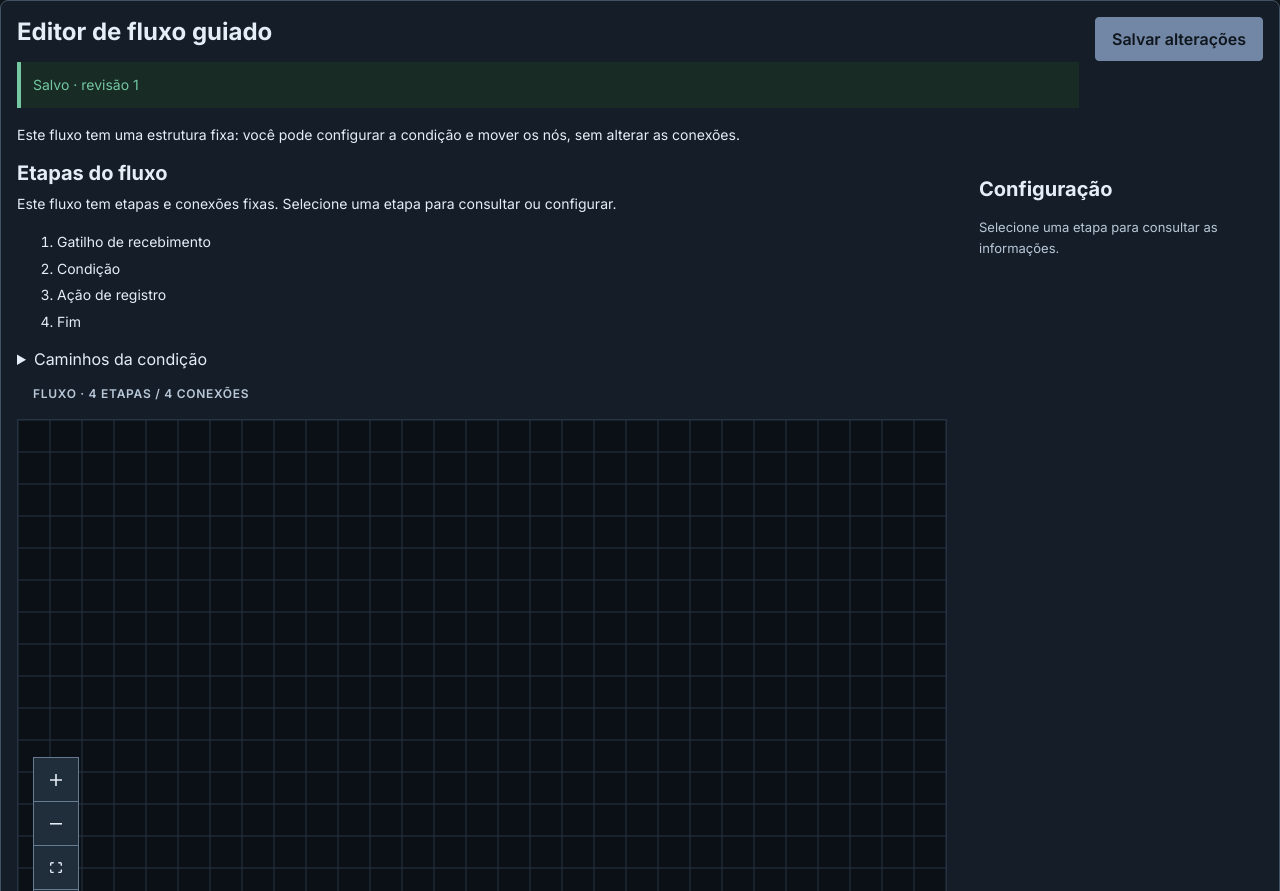
Test: hydrates a persisted condition graph into the builder without changing its topology
This screenshot has width=1280, height=891.
Click the heading "Caminhos da condição" at (120, 359), box [34,349,207,369]
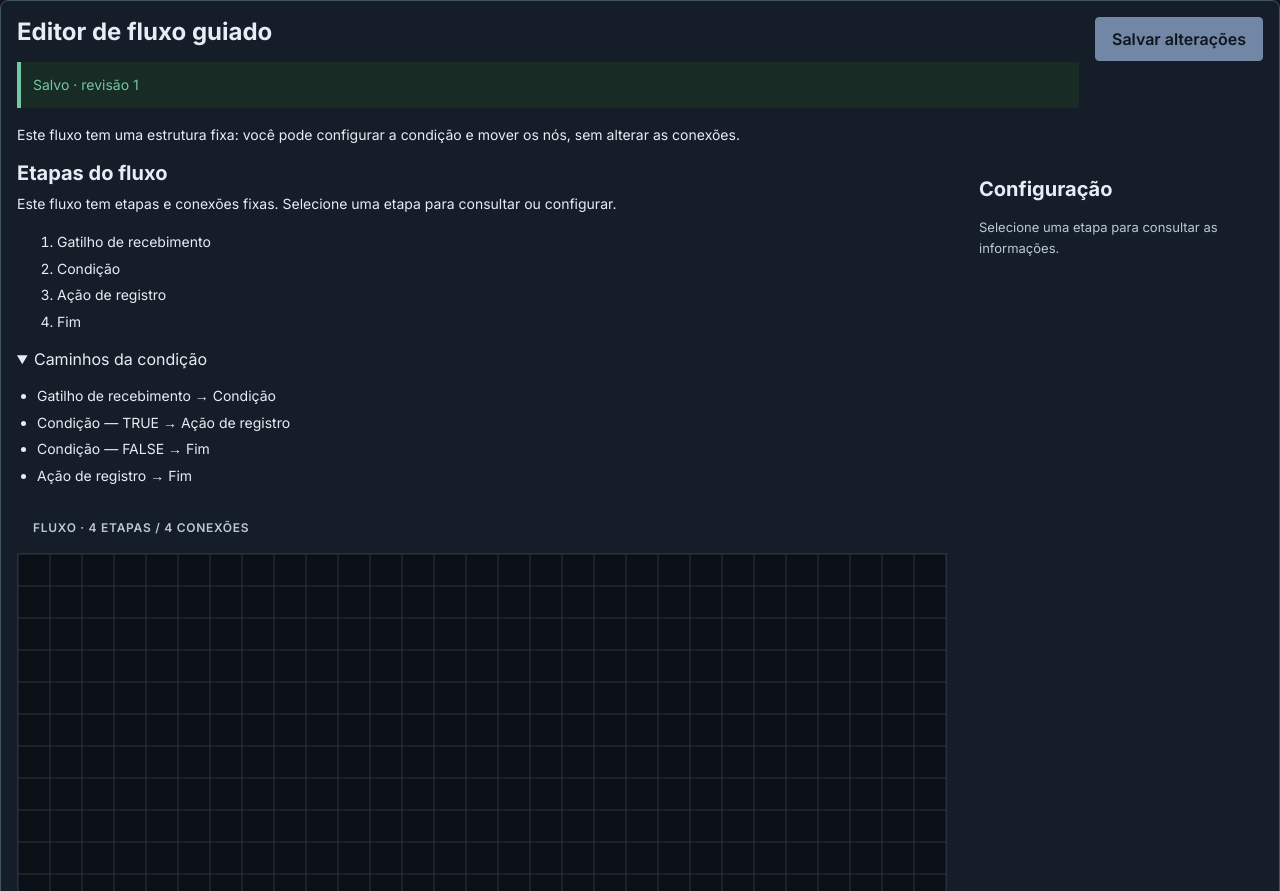
expect the button "Salvar alterações" is disabled: met, box [1095,17,1263,61]
expect the list item "Condição — TRUE → Ação de registro" is shown: met, box [37,414,290,430]
expect the list item "Condição — FALSE → Fim" is shown: met, box [37,440,210,457]
